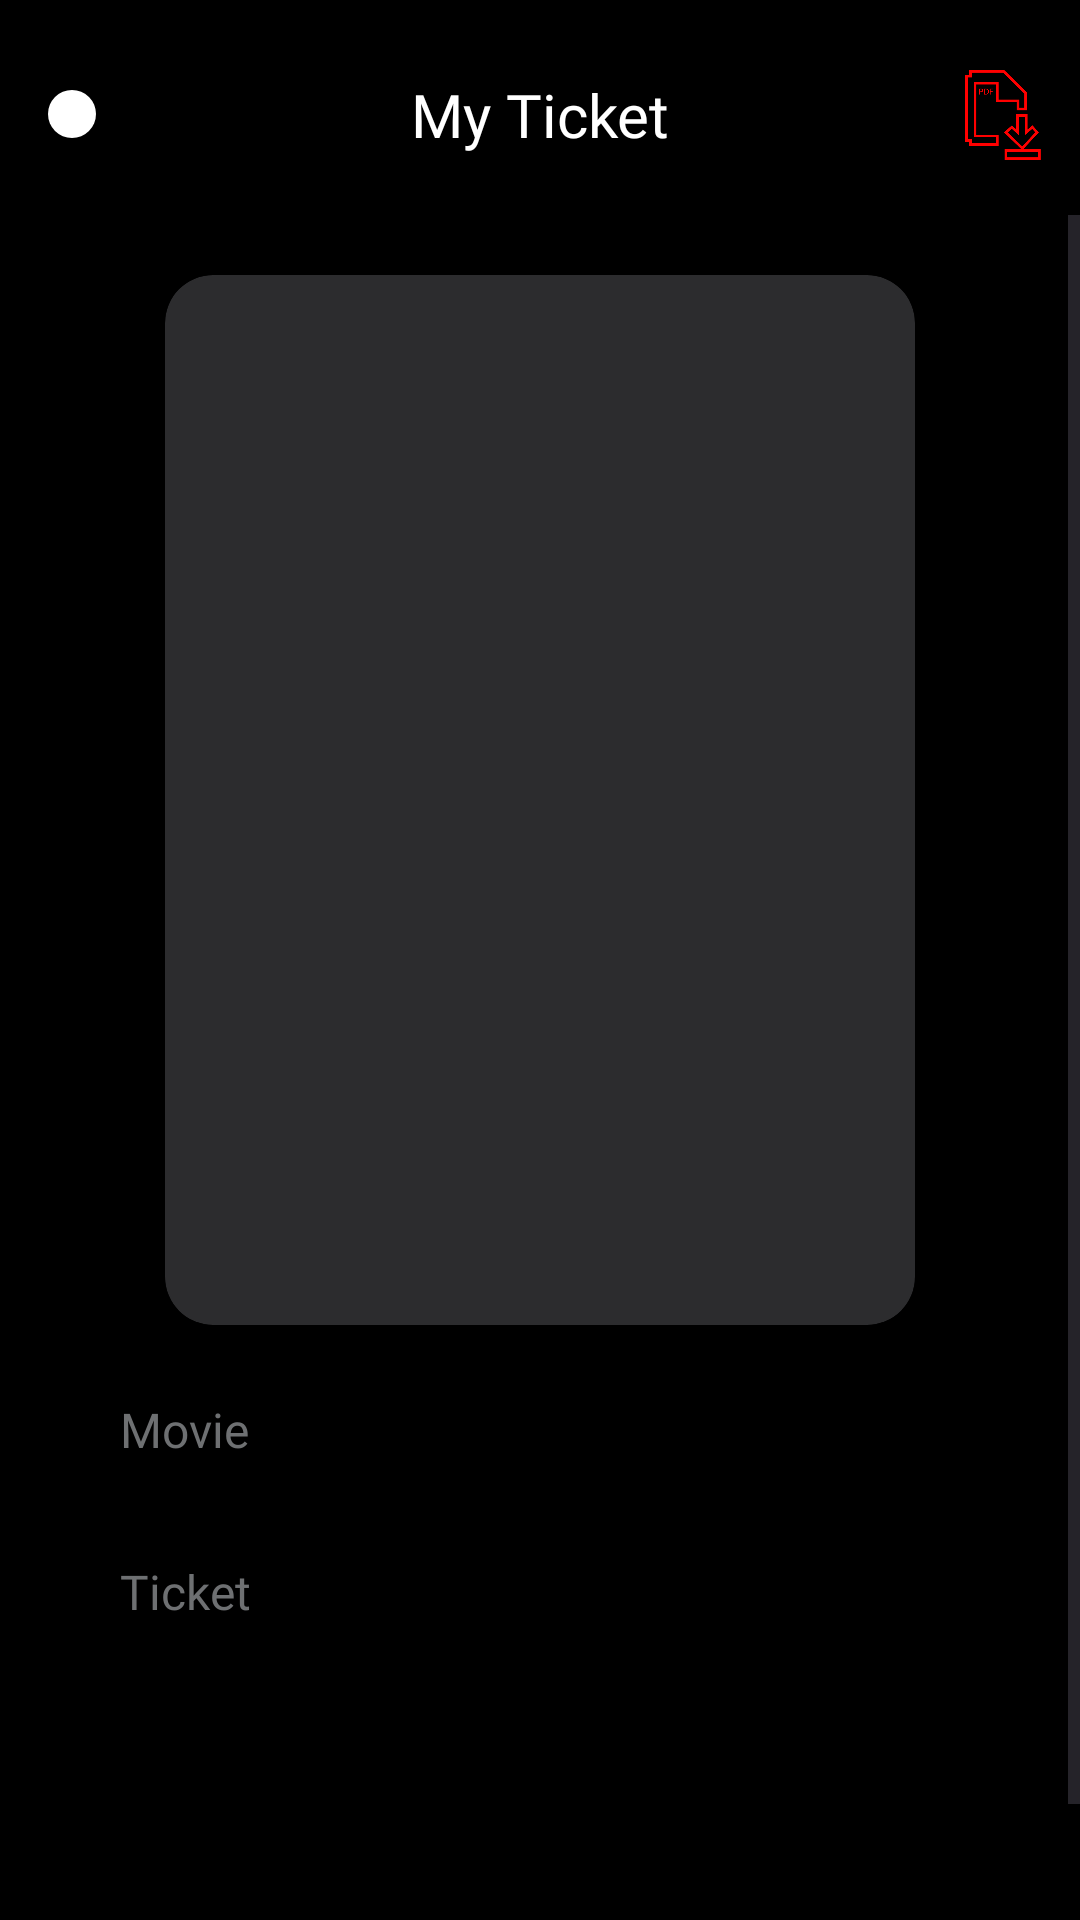

Point at icon controls on the screen. Image size 1080 × 1920, points as [x,y].
donglot: [1003,115]
